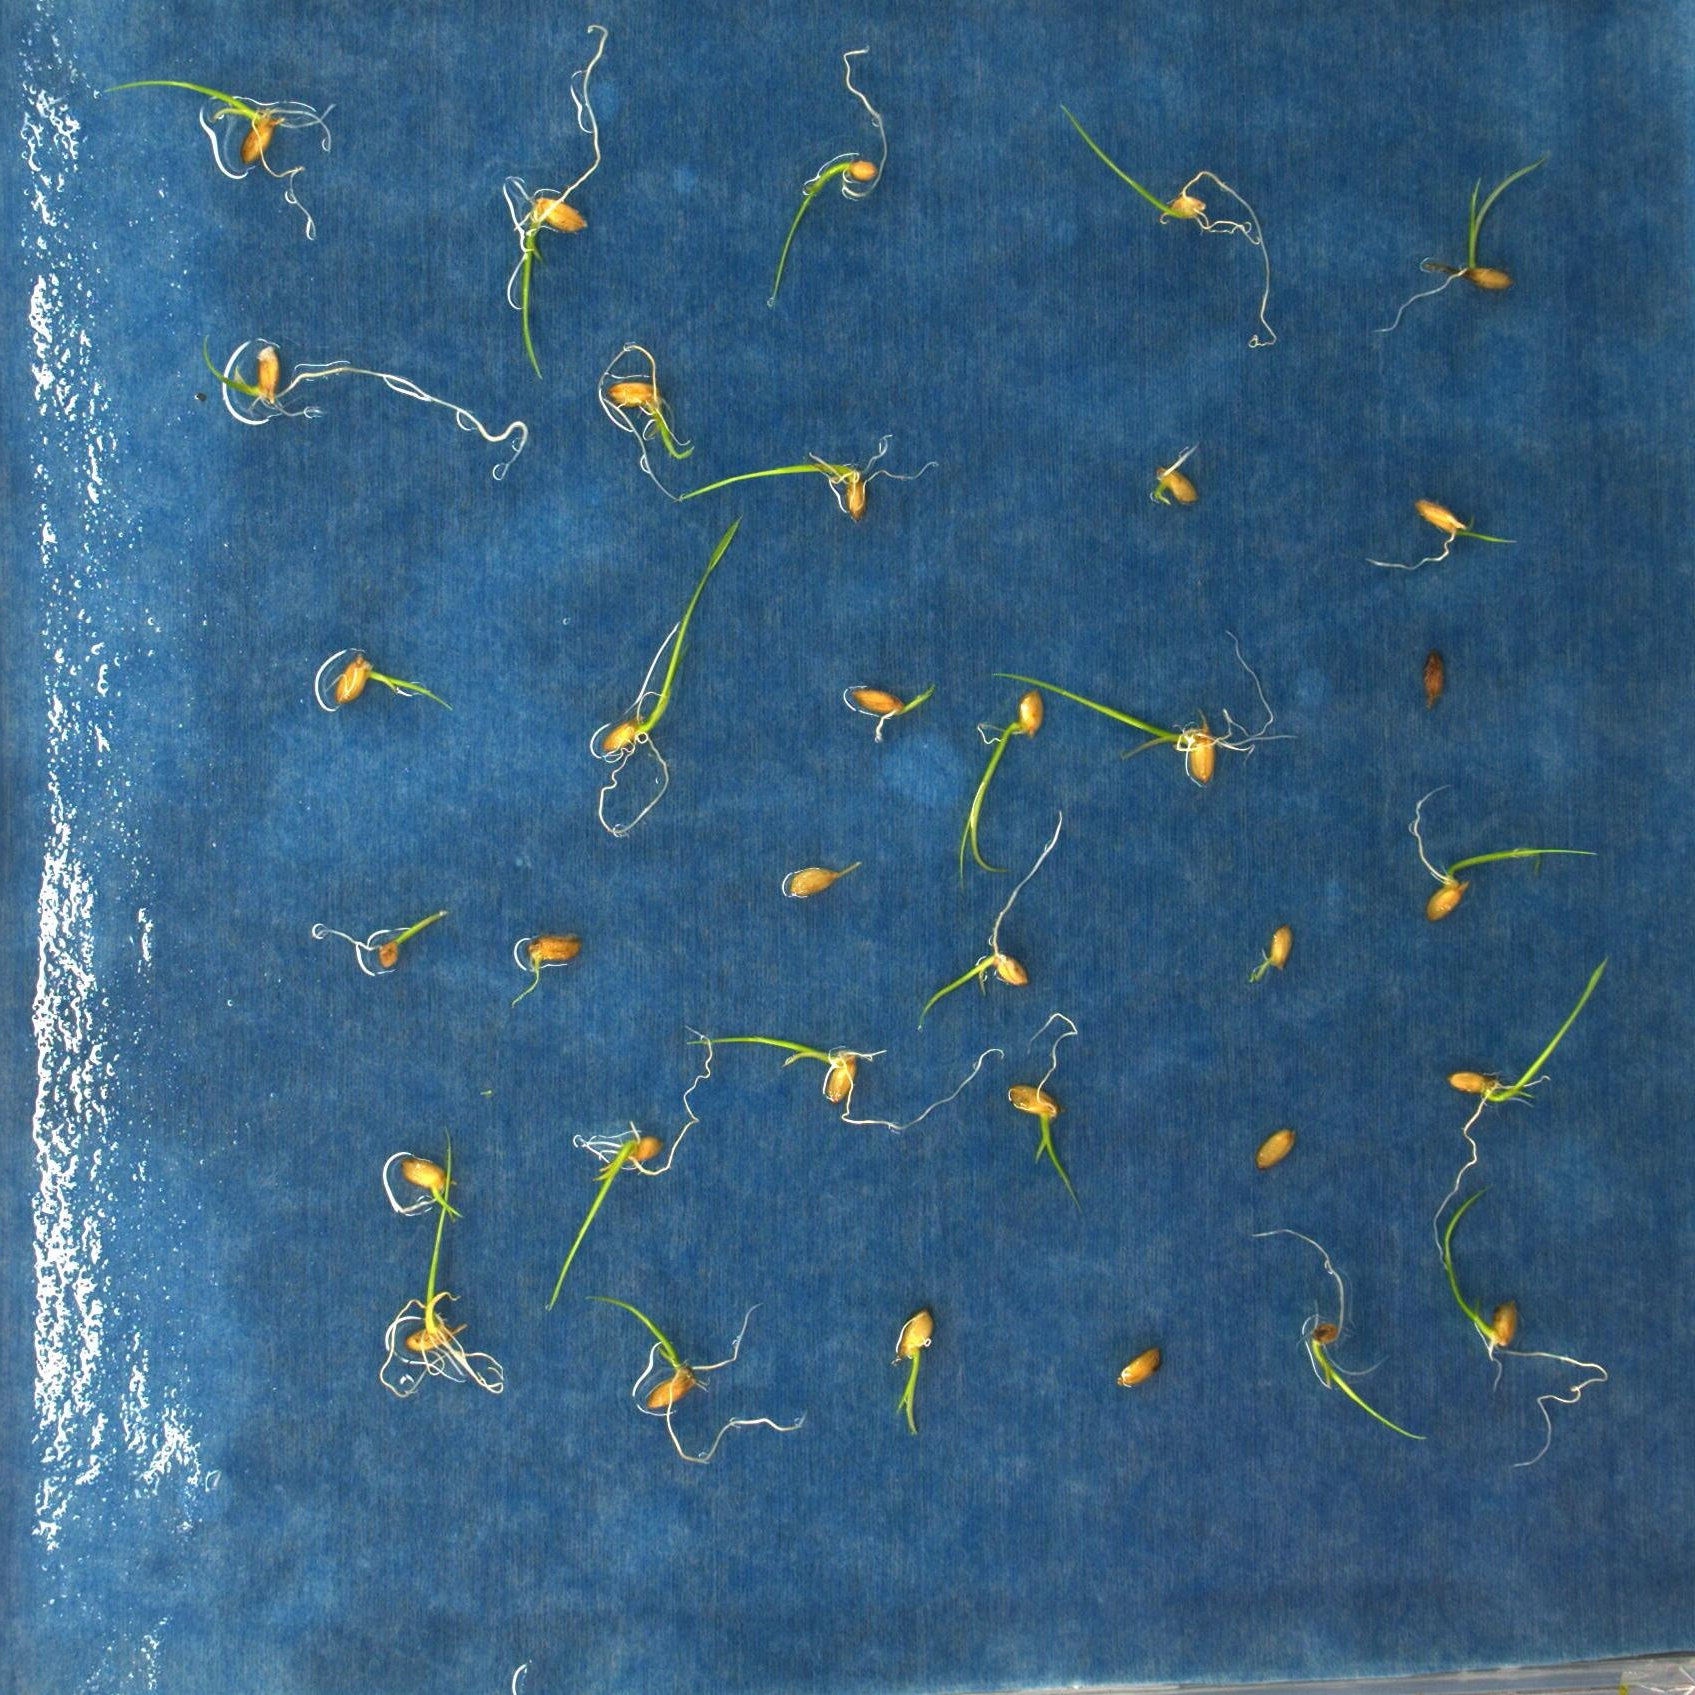not sprout: (789, 860, 863, 899), (1118, 1346, 1164, 1391), (1256, 1125, 1299, 1173), (1420, 647, 1447, 714)
sprout: (1433, 951, 1613, 1271), (1059, 101, 1281, 348), (203, 331, 529, 483), (546, 1024, 716, 1312), (1444, 1180, 1610, 1468), (599, 512, 747, 837), (993, 630, 1299, 782), (587, 1295, 810, 1467), (1253, 1226, 1426, 1440), (106, 79, 335, 239), (514, 23, 612, 379), (380, 1125, 506, 1400), (917, 806, 1066, 1034), (1375, 147, 1554, 334), (768, 40, 886, 307), (686, 1037, 1004, 1133), (1411, 782, 1600, 920), (681, 435, 941, 525), (958, 688, 1045, 893), (1006, 1014, 1083, 1215), (598, 345, 697, 500), (1367, 497, 1515, 573), (317, 908, 450, 967), (331, 653, 456, 712), (511, 931, 587, 1010), (847, 680, 938, 744), (893, 1309, 933, 1434), (397, 1152, 463, 1223), (1153, 441, 1203, 506), (1253, 920, 1293, 984)
